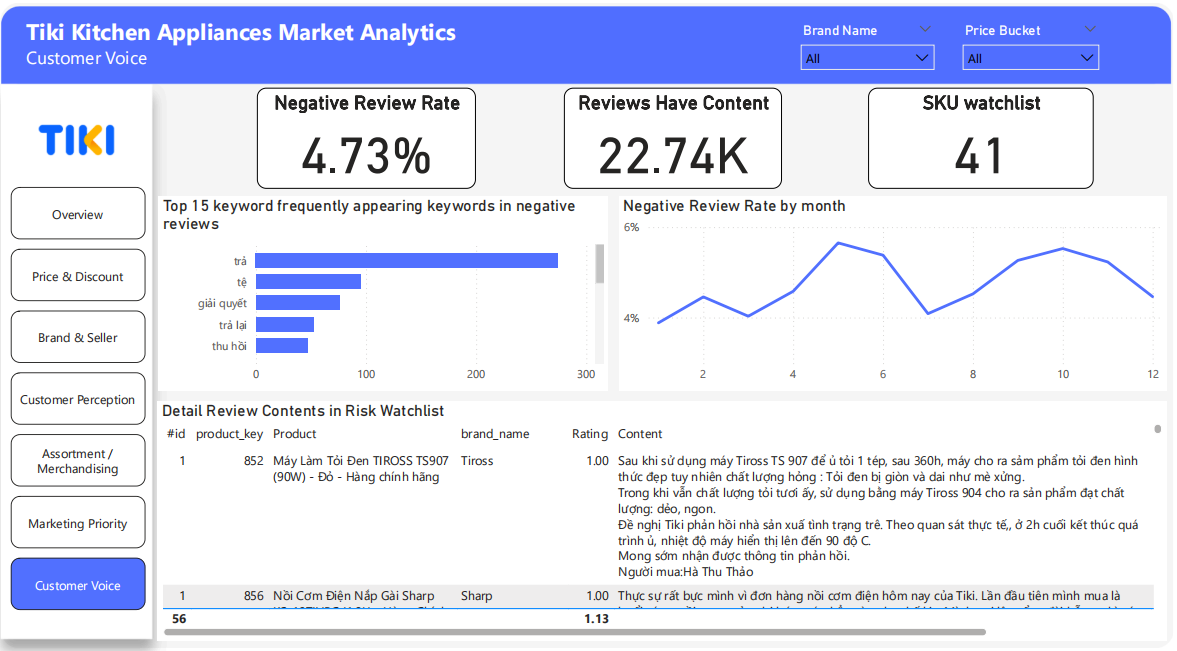

Layout of this report page (visuals, bound fields, positions):
{"tool":"powerbi","page":{"name":"Customer Voice","canvas":[1280,720],"ordinal":6},"visuals":[{"type":"textbox","box":[38.6,24.3,904.3,78.6],"z":0},{"type":"card","title":"Negative Review Rate","fields":{"Values":["_Measures.Negative Review Rate"]},"box":[290,106.2,233.8,107.5],"z":1000},{"type":"card","title":"SKU watchlist","fields":{"Values":["_Measures.Quality Risk SKU Count"]},"box":[942.5,106.2,241.2,107.5],"z":2000},{"type":"slicer","fields":{"Values":["dim_brand.brand_name"]},"box":[861.3,31.7,163,63.5],"z":5000},{"type":"slicer","fields":{"Values":["fact_product_metrics.price_bucket"]},"box":[1034.5,31.7,165.9,63.5],"z":6000},{"type":"card","title":"Reviews Have Content","fields":{"Values":["_Measures.Review Count"]},"box":[617.5,106.2,233.8,107.5],"z":7000},{"type":"clusteredBarChart","title":"Top 15 keyword frequently appearing keywords in negative reviews","fields":{"Category":["keyword_frequency.keyword"],"Y":["Sum(keyword_frequency.frequency_negative)"]},"box":[185,221.7,480,208.3],"z":8000},{"type":"lineChart","fields":{"Y":["_Measures.Negative Review Rate"],"Category":["dim_date.month"]},"box":[676.7,221.7,585,208.3],"z":9000},{"type":"tableEx","title":"Detail Review Contents in Risk Watchlist","fields":{"Values":["Count(fact_reviews.comment_id)","dim_product.product_key","dim_product.product_name","dim_brand.brand_name","Avg(fact_reviews.rating)","fact_reviews.content","fact_reviews.created_at"]},"box":[184.3,440.8,1077.3,256.6],"z":10000},{"type":"pageNavigator","box":[27,211.9,143.6,456.5],"z":11000}]}

Visuals, with their boxes on the page's 1280x720 design canvas (x1, y1, x2, y2). These are canvas units, not pixel positions in the 1177x651 screenshot, which may show the page scaled, cropped or inside an application window:
textbox: (39, 24, 943, 103)
"Negative Review Rate" card: (290, 106, 524, 214)
"SKU watchlist" card: (942, 106, 1184, 214)
slicer - dim_brand.brand_name: (861, 32, 1024, 95)
slicer - fact_product_metrics.price_bucket: (1034, 32, 1200, 95)
"Reviews Have Content" card: (618, 106, 851, 214)
"Top 15 keyword frequently appearing keywords in negative reviews" clusteredBarChart: (185, 222, 665, 430)
lineChart - _Measures.Negative Review Rate x dim_date.month: (677, 222, 1262, 430)
"Detail Review Contents in Risk Watchlist" tableEx: (184, 441, 1262, 697)
pageNavigator: (27, 212, 171, 668)
